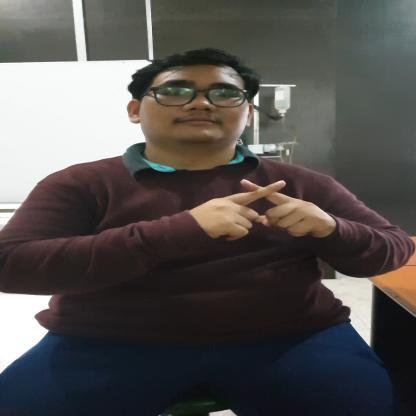X: (195, 178, 326, 240)
